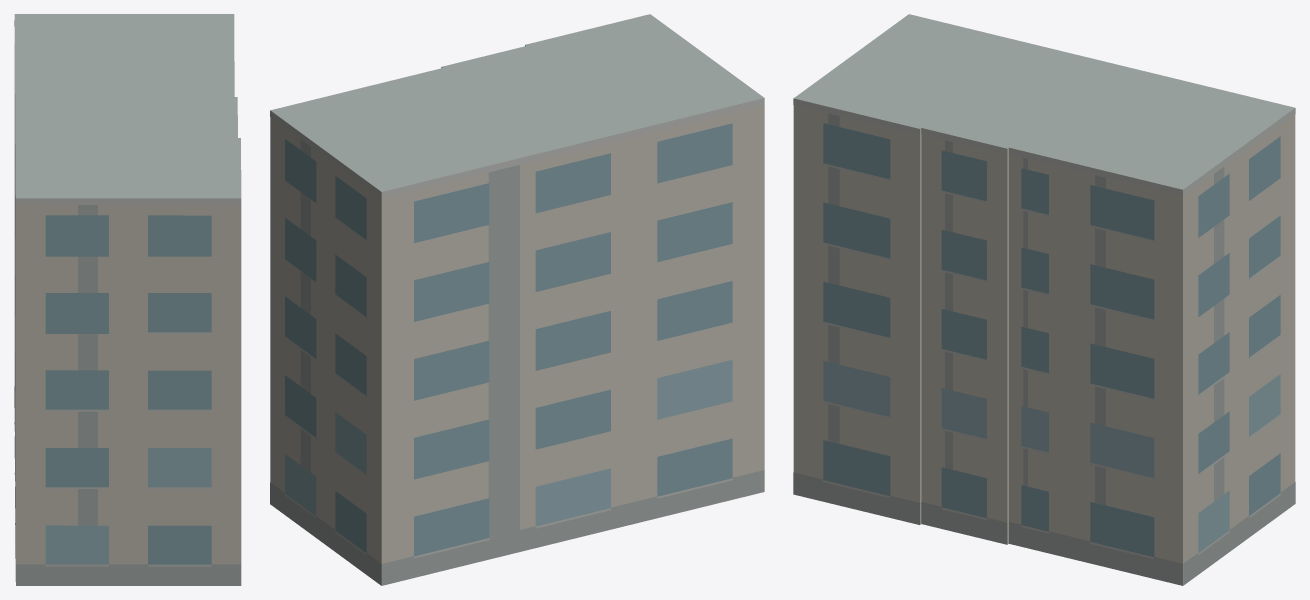
Rendered from survey-upis-32988279.glb.
3 renders of one model, left to right at view 1: azimuth 30°, elevation 25°; view 2: azimuth 150°, elevation 25°; view 3: azimuth 270°, elevation 25°, orthographic. The views are drawn at different scales.
Parts seen in each view (by area): view 1: survey-upis-32988279.tmp; view 2: survey-upis-32988279.tmp; view 3: survey-upis-32988279.tmp.
Boxes of the visible parts, box(x1,y1,x2,y2) form: survey-upis-32988279.tmp: box(14, 14, 241, 585); survey-upis-32988279.tmp: box(270, 14, 764, 585); survey-upis-32988279.tmp: box(793, 14, 1295, 585).
Bounding box in the file's own units: 13.71 × 14.4 × 16.55.
